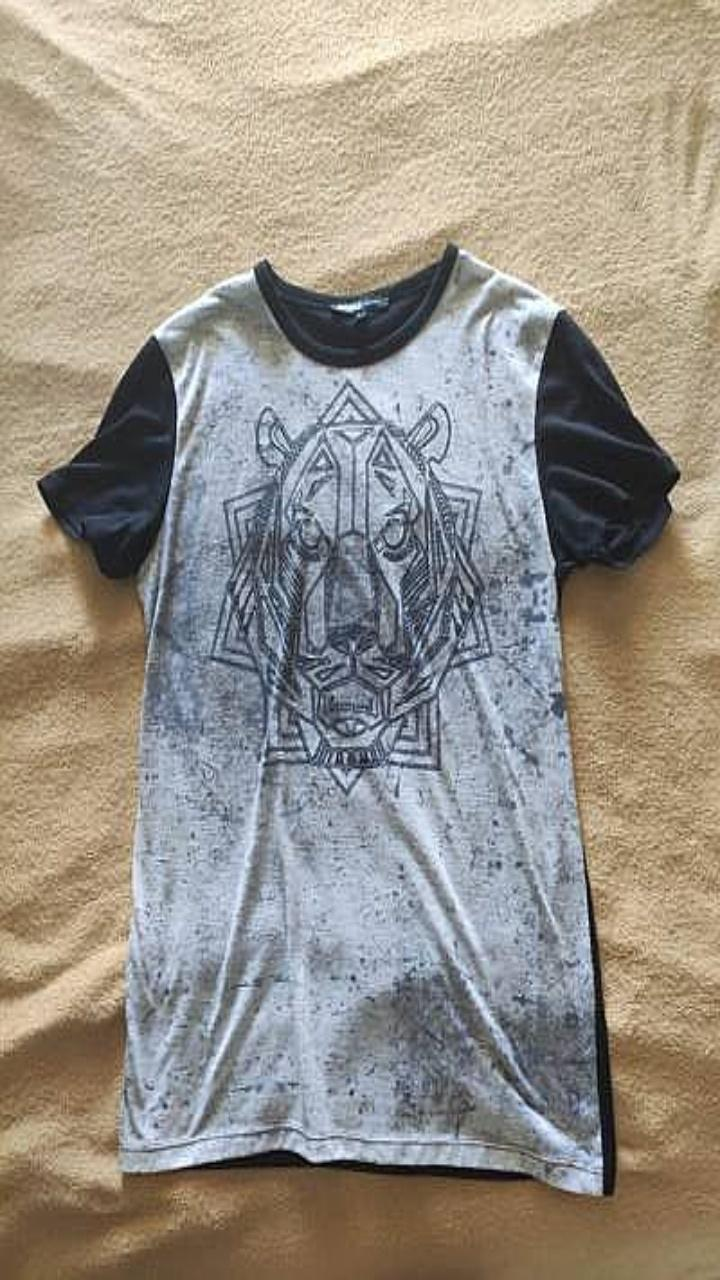T-Shirt: (37, 242, 679, 1194)
